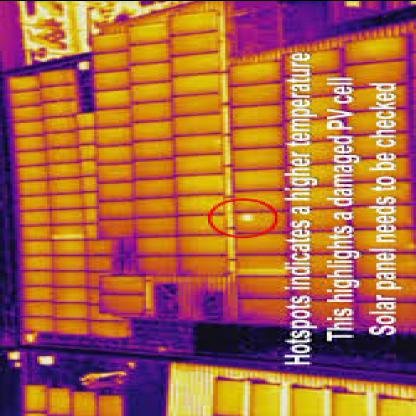Defects: (238, 212, 258, 222)
